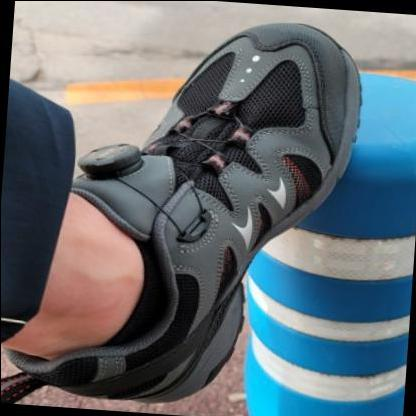safety-shoe: (73, 4, 394, 415)
